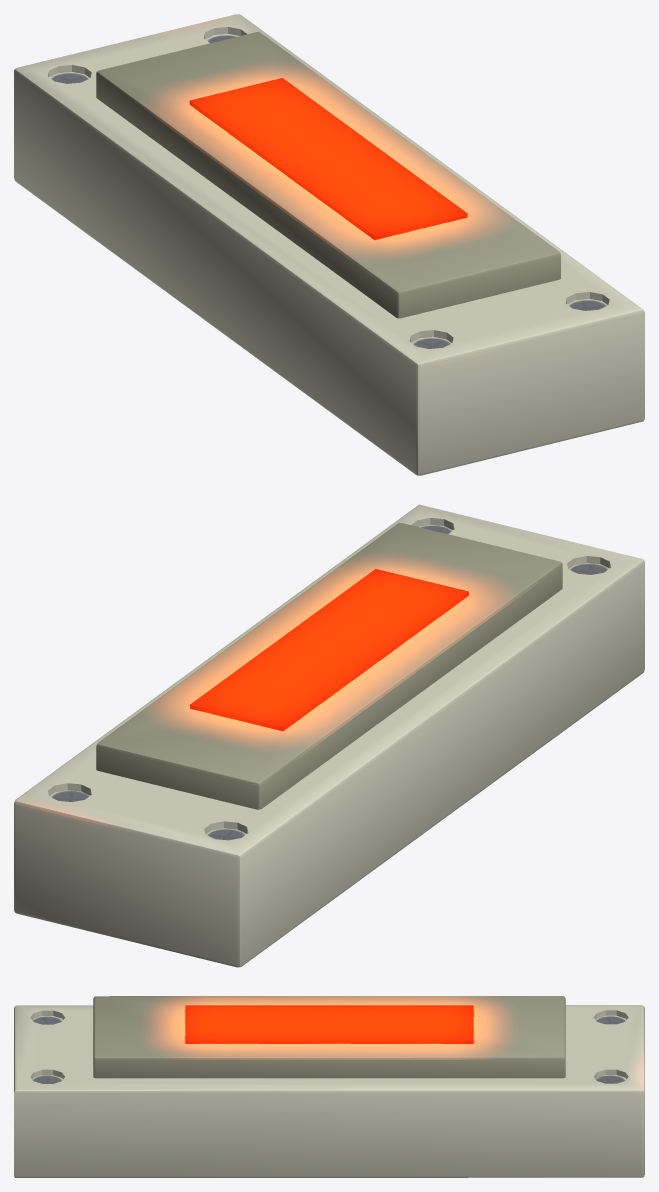
File: Fuse_light.fbx
The picture shows the model from 3 angles, top to bottom: view 1: azimuth 30°, elevation 25°; view 2: azimuth 150°, elevation 25°; view 3: azimuth 270°, elevation 25°; orthographic projection. The views are drawn at different scales.
Visible parts, largest first — view 1: Fuse_light, Cube_002; view 2: Fuse_light, Cube_002; view 3: Fuse_light, Cube_002.
Part boxes in pixels (x1,y1,x2,y2): Fuse_light: [14, 14, 644, 475]; Cube_002: [96, 32, 560, 318]; Fuse_light: [14, 504, 644, 967]; Cube_002: [96, 523, 562, 809]; Fuse_light: [14, 1005, 644, 1177]; Cube_002: [93, 996, 565, 1078].
Size of the model in its own units: 10 by 6.1 by 30.88.
1 material, 1 textured.
